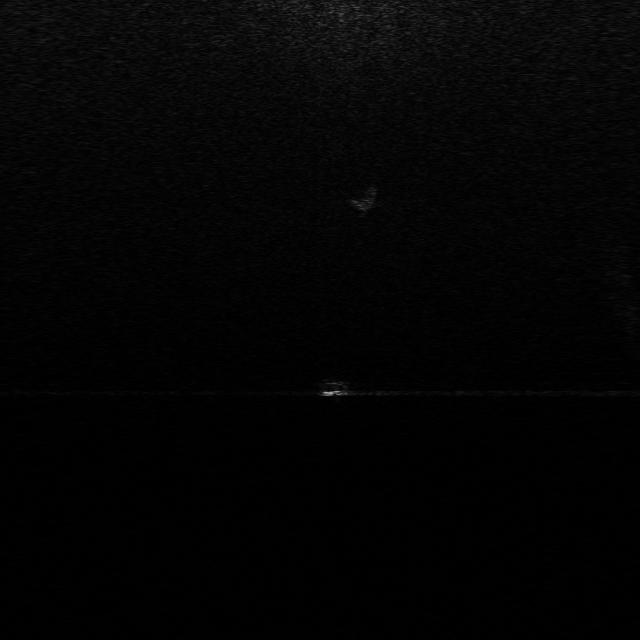cube: (312, 375, 353, 399)
square cage: (344, 184, 377, 213)
